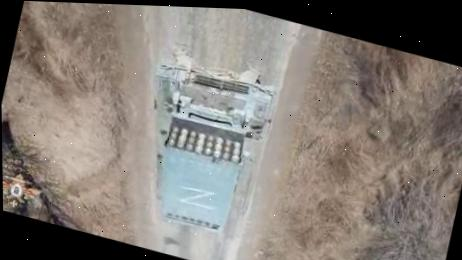rszo: (122, 43, 283, 244)
